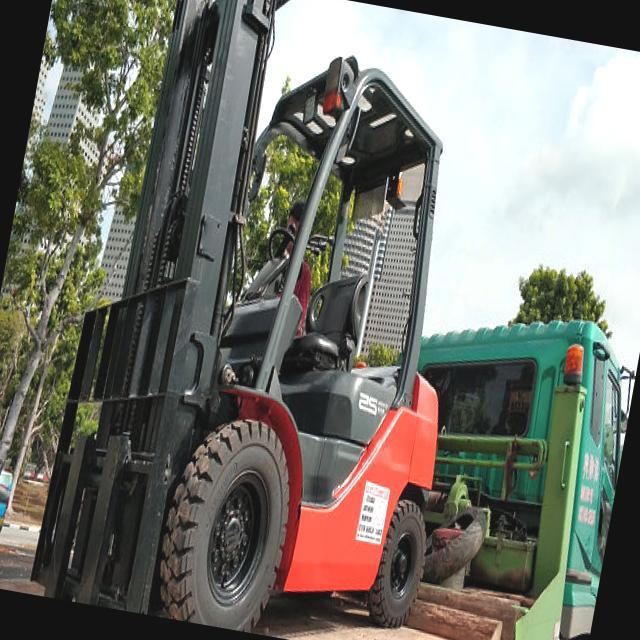forklift: (20, 0, 515, 640)
